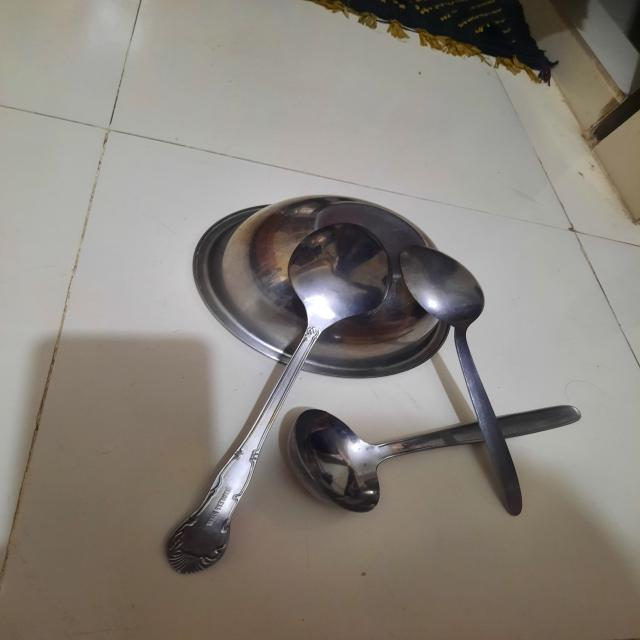Metal: (92, 156, 586, 564)
